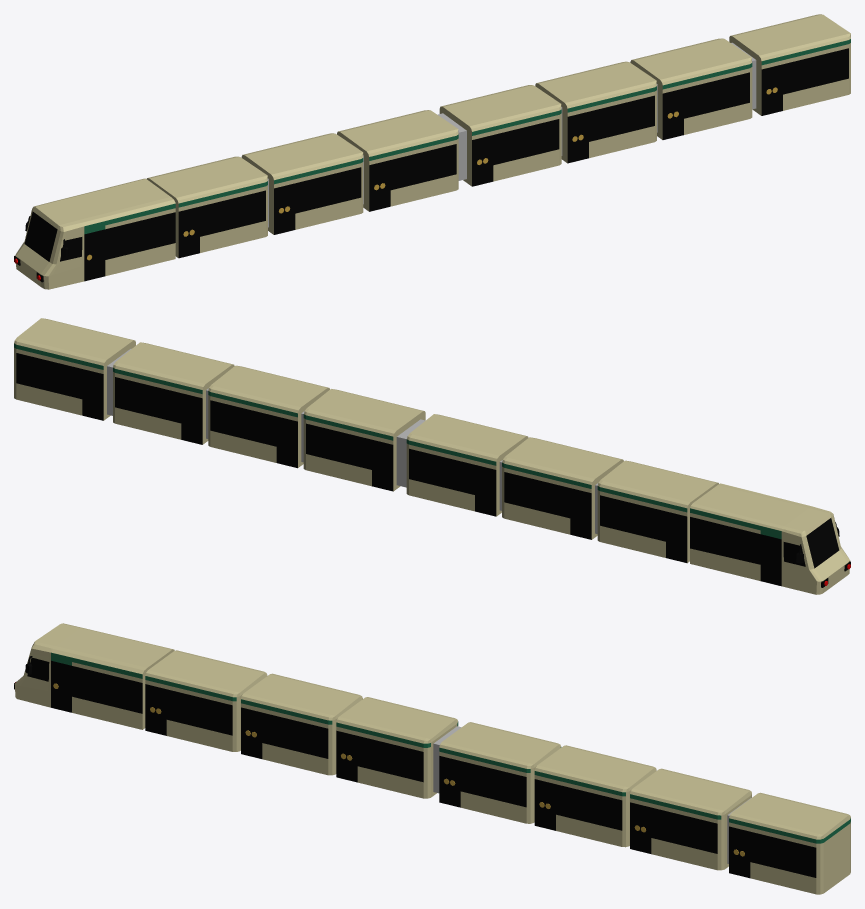
The picture shows the model from 3 angles, top to bottom: view 1: azimuth 30°, elevation 25°; view 2: azimuth 150°, elevation 25°; view 3: azimuth 330°, elevation 25°; orthographic projection.
Parts seen in each view (by area): view 1: shadeGrey.001, shadeBlack, shadeGreen, shadeGrey; view 2: shadeGrey.001, shadeBlack, shadeGreen, shadeGrey; view 3: shadeGrey.001, shadeBlack, shadeGreen, shadeGrey.
Part boxes in pixels (x1,y1,x2,y2): shadeGrey.001: (15,14,850,289); shadeBlack: (14,48,848,282); shadeGreen: (84,39,850,234); shadeGrey: (267,42,756,227); shadeGrey.001: (14,318,850,594); shadeBlack: (16,353,850,587); shadeGreen: (14,343,781,539); shadeGrey: (107,348,598,533); shadeGrey.001: (14,623,850,894); shadeBlack: (14,656,816,878); shadeGreen: (51,652,850,843); shadeGrey: (433,726,750,863).
Bounding box in the file's own units: 20.16 × 1.4 × 1.73.
